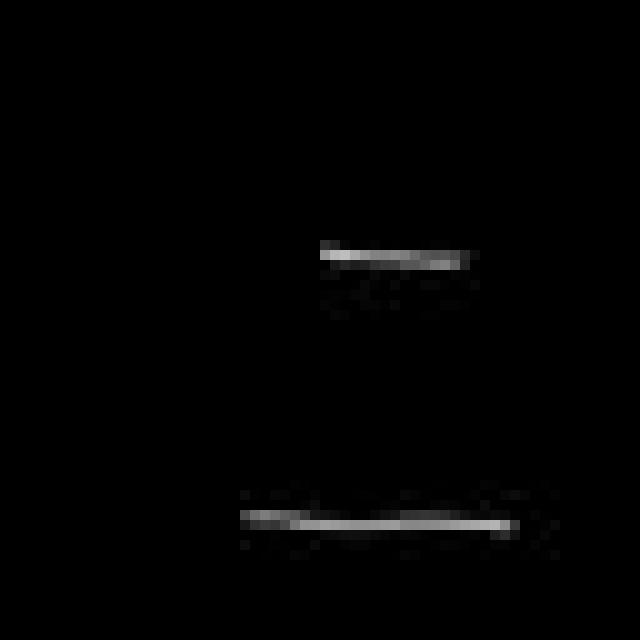2 -two-: (214, 230, 529, 552)
